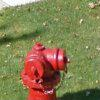Hydrant: (22, 31, 71, 100)
